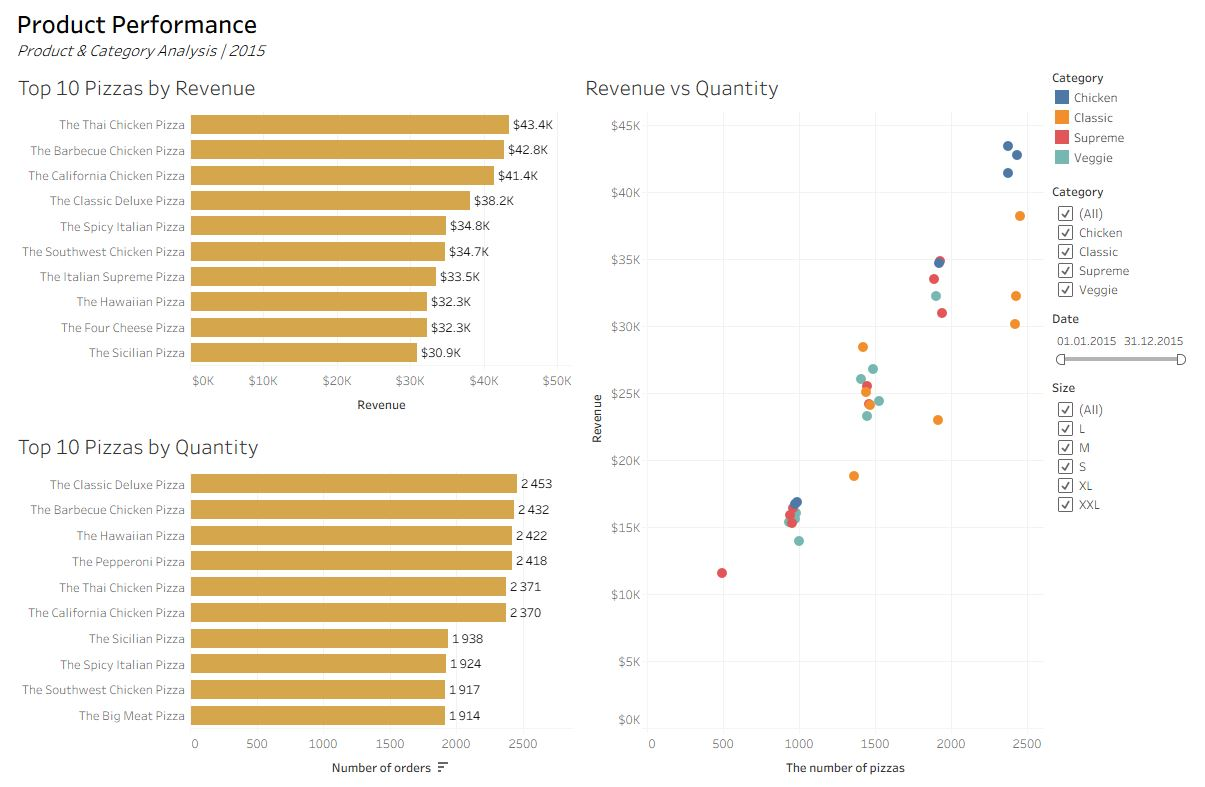

Layout of this report page (visuals, bound fields, positions):
{"tool":"tableau","page":{"name":"Product Performance","canvas":[1200,800],"ordinal":2},"visuals":[{"type":"text","box":[8,8,1184,62]},{"type":"worksheet","title":"Top 10 Pizzas by Revenue","mark":"Bar","rows":["name"],"cols":["Calculation_0738662936780800"],"box":[8,70,567,359]},{"type":"worksheet","title":"Revenue vs Quantity","mark":"Circle","rows":["Calculation_0738662936780800"],"cols":["quantity"],"box":[575,70,471,722]},{"type":"legend","title":"Revenue vs Quantity","param":"[federated.0ryhwb20du5pnl1avtzbi1fca3mc].[none:category:nk]","box":[1046,70,146,114]},{"type":"filter","title":"Revenue vs Quantity","param":"[federated.0ryhwb20du5pnl1avtzbi1fca3mc].[none:category:nk]","box":[1046,184,146,127]},{"type":"filter","title":"Top 10 Pizzas by Revenue","param":"[federated.0ryhwb20du5pnl1avtzbi1fca3mc].[none:date:qk]","box":[1046,311,146,69]},{"type":"filter","title":"Top 10 Pizzas by Revenue","param":"[federated.0ryhwb20du5pnl1avtzbi1fca3mc].[none:size:nk]","box":[1046,380,146,146]},{"type":"worksheet","title":"Top 10 Pizzas by Quantity","mark":"Bar","rows":["name"],"cols":["quantity"],"box":[8,429,567,363]}]}

Visuals, with their boxes in screenshot pixels (x1, y1, x2, y2), scaled from the page's 1200x800 canvas onto the 1205x787 screenshot:
text: 8/8/1197/69
"Top 10 Pizzas by Revenue" worksheet (Bar marks): 8/69/577/422
"Revenue vs Quantity" worksheet (Circle marks): 577/69/1050/779
"Revenue vs Quantity" legend: 1050/69/1197/181
"Revenue vs Quantity" filter: 1050/181/1197/306
"Top 10 Pizzas by Revenue" filter: 1050/306/1197/374
"Top 10 Pizzas by Revenue" filter: 1050/374/1197/517
"Top 10 Pizzas by Quantity" worksheet (Bar marks): 8/422/577/779
